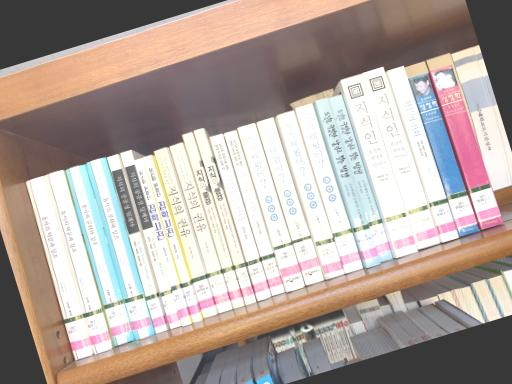book-spine: (340, 74, 418, 258), (362, 67, 440, 249), (25, 176, 94, 361), (387, 66, 459, 243), (65, 165, 135, 346), (86, 157, 155, 340), (45, 170, 113, 355), (430, 65, 504, 230), (255, 117, 325, 286), (276, 110, 345, 280), (295, 102, 363, 274), (237, 123, 305, 293), (410, 73, 480, 237), (314, 97, 381, 268), (181, 131, 245, 309), (193, 128, 257, 306), (153, 147, 217, 319), (328, 94, 393, 263), (121, 150, 182, 330), (169, 142, 232, 314), (107, 154, 167, 334), (209, 133, 271, 302), (142, 154, 203, 323), (223, 130, 285, 296), (133, 158, 193, 327)
